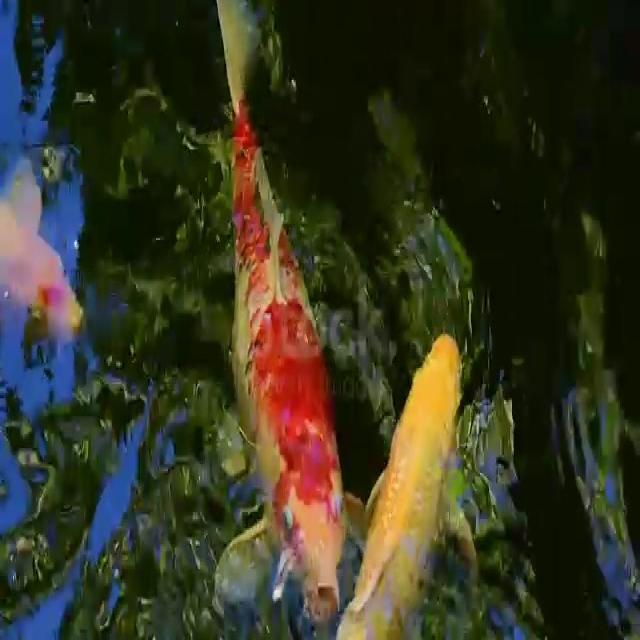fish: (208, 0, 348, 634), (336, 327, 496, 640), (0, 163, 86, 371)
